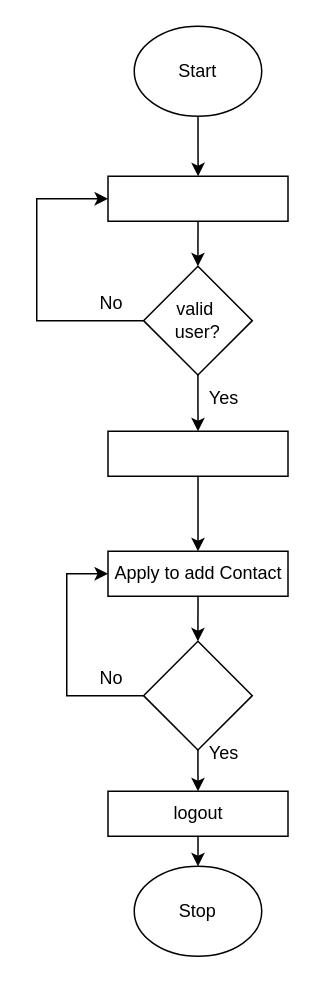
The diagram is 315 pixels wide and 983 high, and some of its shapes have lost their labels. The shapes that lost their labels are listed below. From the top down, each one's centre as x and y in pixels, then its label:
the point at 197,198: Login
the point at 197,453: View.rate and comment contacts
the point at 197,695: sucessful?
